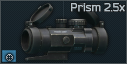Primary Arms Compact prism scope 2.5x: (0, 0, 127, 64)
